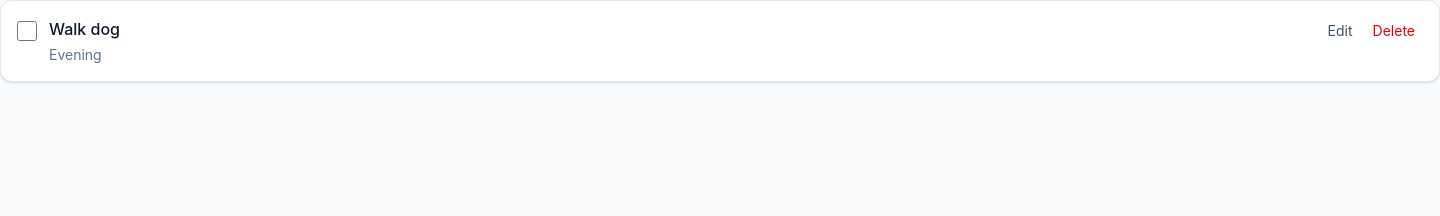
Scenario: TaskItem › cancel leaves the task unchanged
Click the button named "Edit \"Walk dog\"".
click(1340, 31)  # box [1320,17,1361,45]
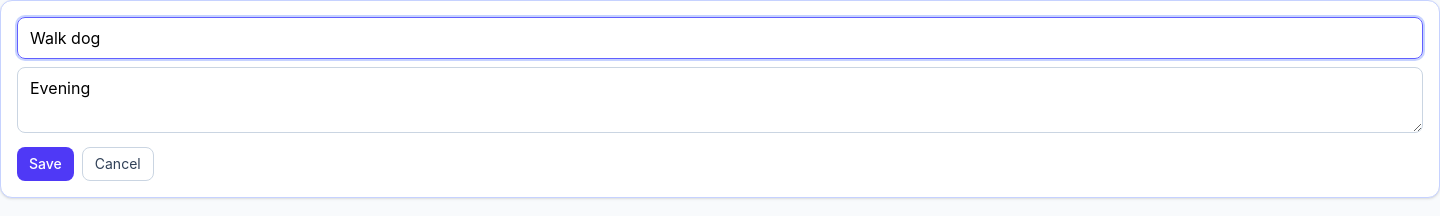
Type " later" into the field named "Task title".
click(720, 38); type(" later")  # box [17,17,1423,59]
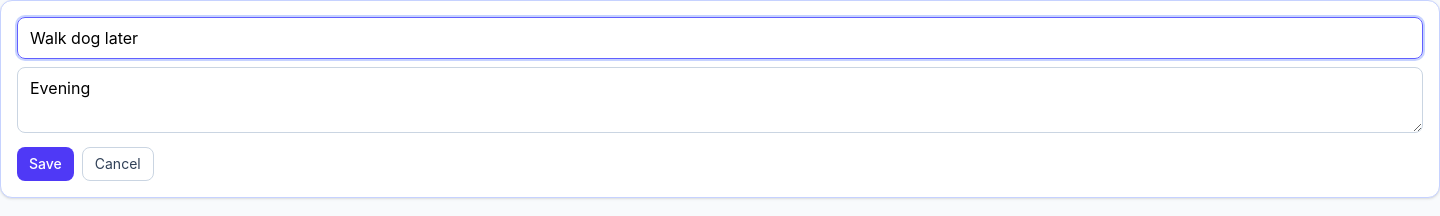
Click the button "Cancel".
click(118, 164)  # box [82,147,154,181]
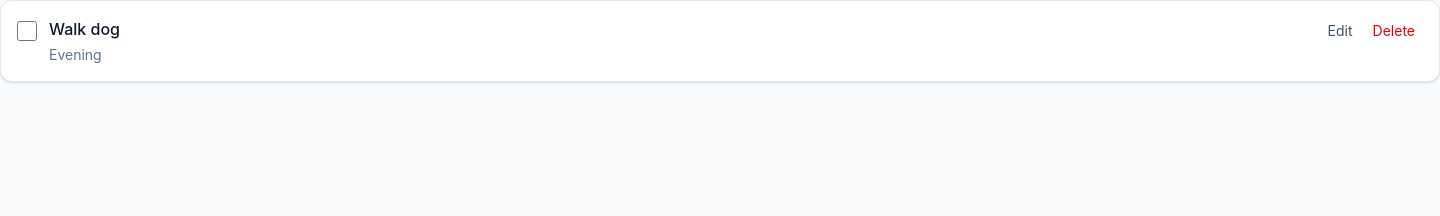
Expected: the text "Walk dog" is shown, [49,19,120,39]
